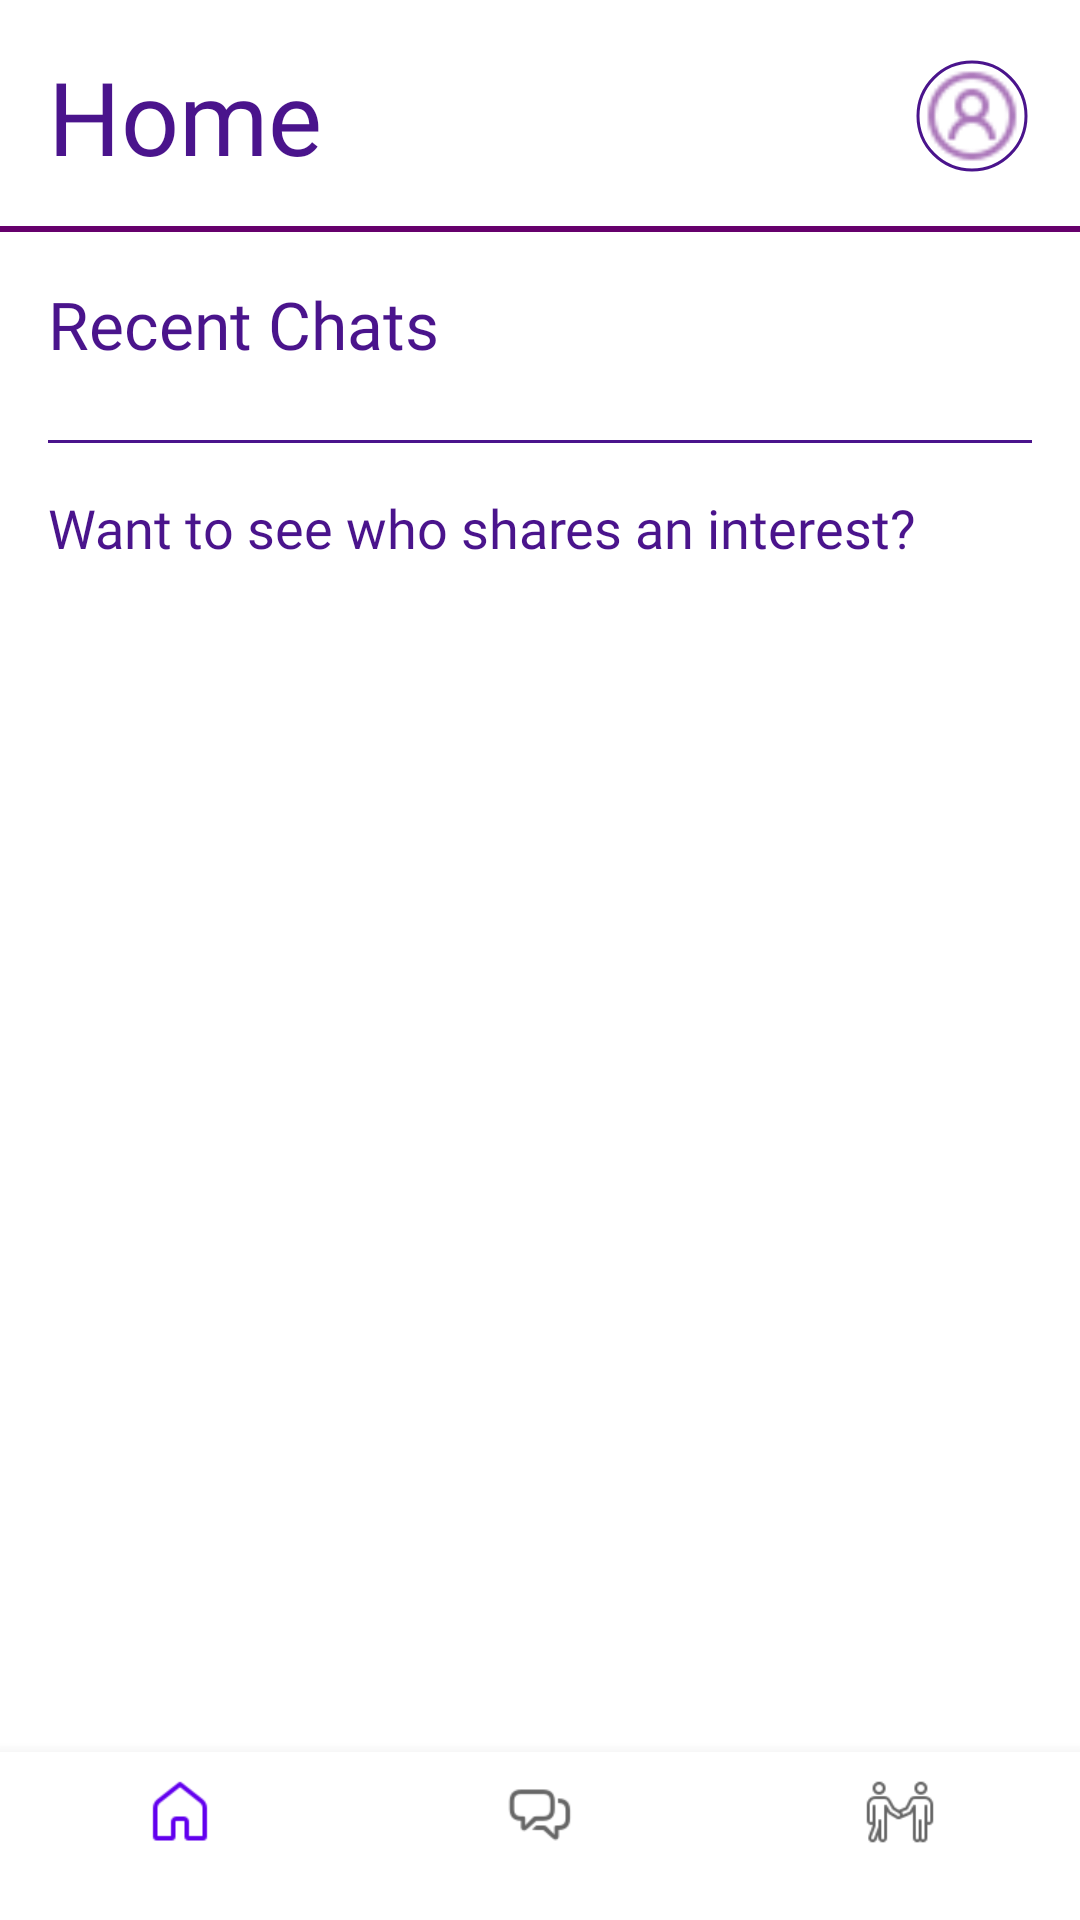

Where icons sit on this 1080px x 1920px app screen, as box=[x1, y1, x2, y2]:
profile: box=[916, 60, 1028, 172]
